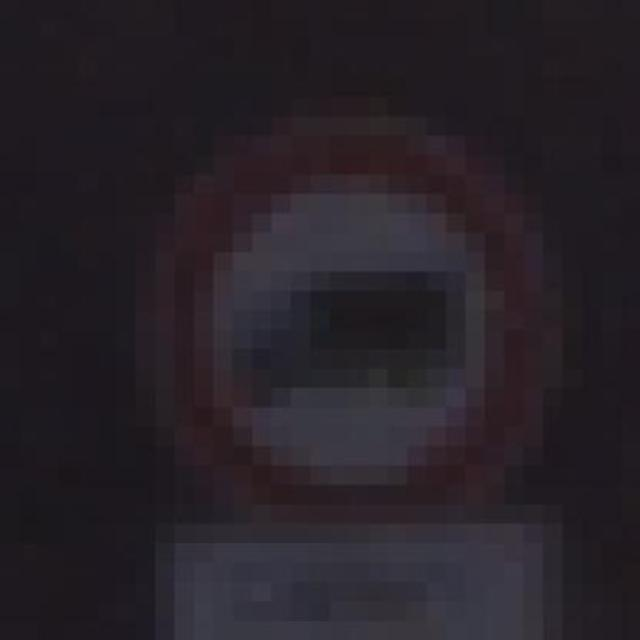Truck traffic is prohibited: (97, 77, 581, 543)
